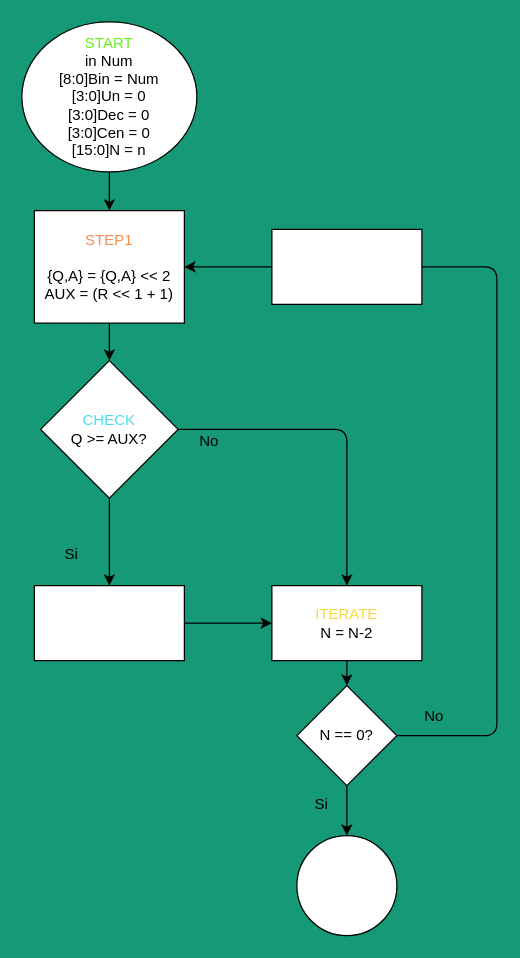
This 520x958 diagram has some shape labels left out. The centre of each missing label's shape, as x and y in pixels:
DONE out R out Q: point 346,885
OPERATE Q = Q + CP2(AUX) LBS(R) = 1: point 108,622
STEP2 R = R<<1: point 346,266
